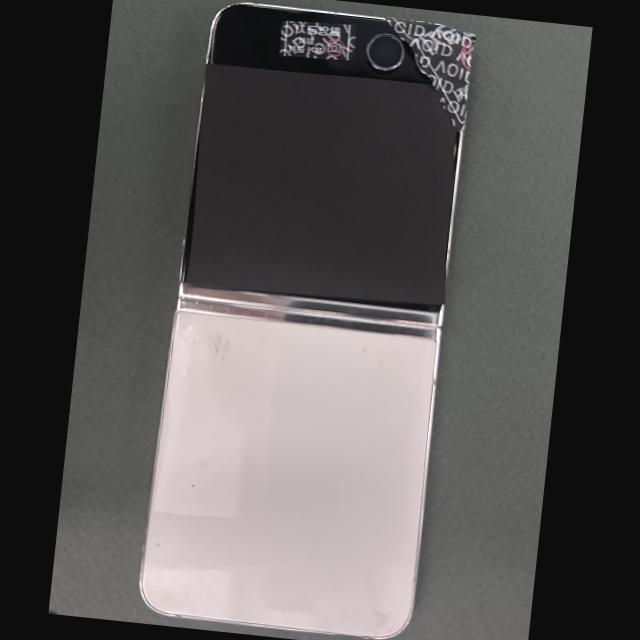lens: (366, 34, 403, 70), (414, 57, 426, 74)
phone: (138, 1, 469, 640)
sticker: (383, 16, 477, 132), (279, 20, 356, 60)
